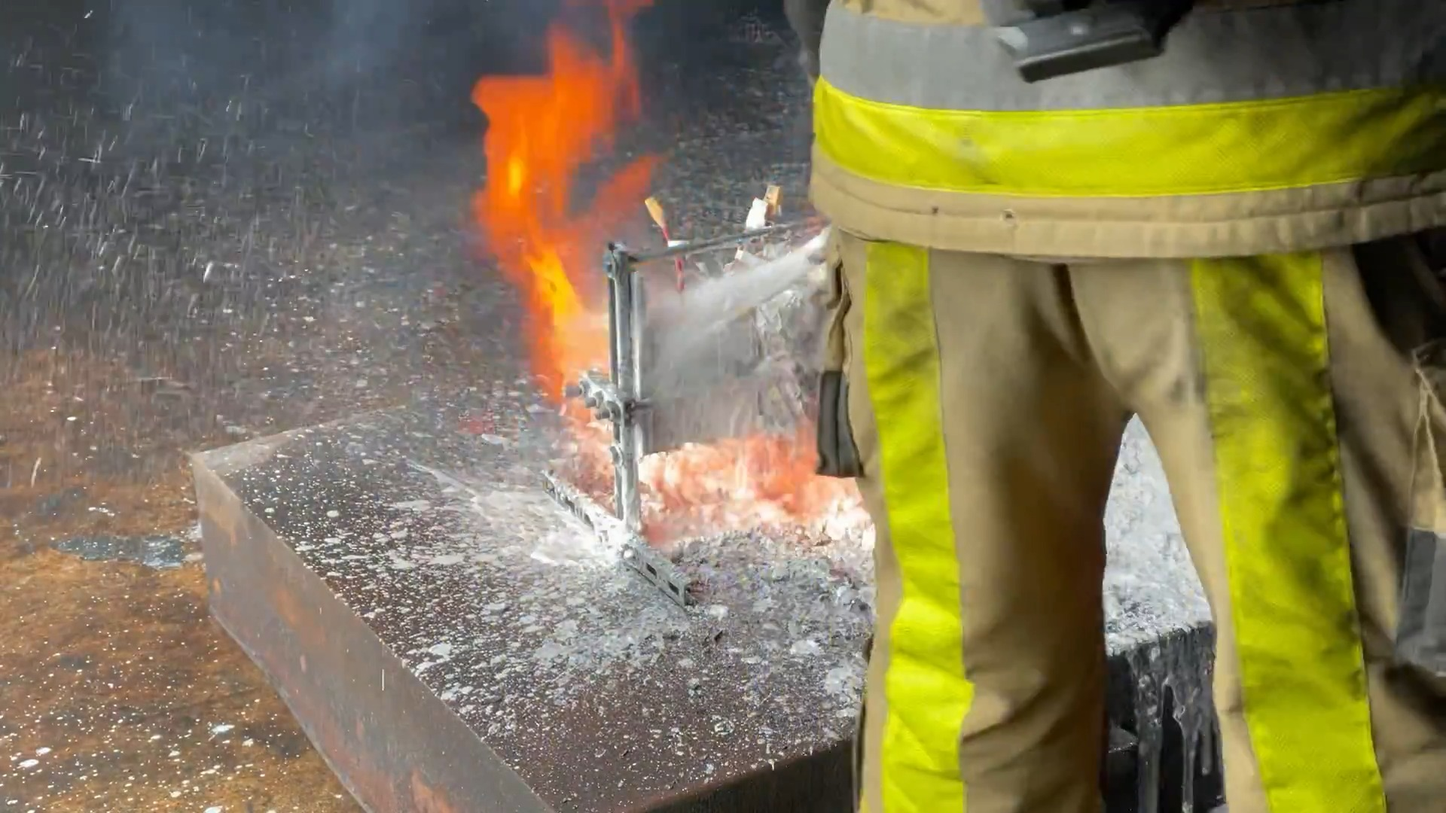fire: (459, 0, 665, 446), (545, 400, 865, 550)
smoke: (154, 0, 515, 311)
